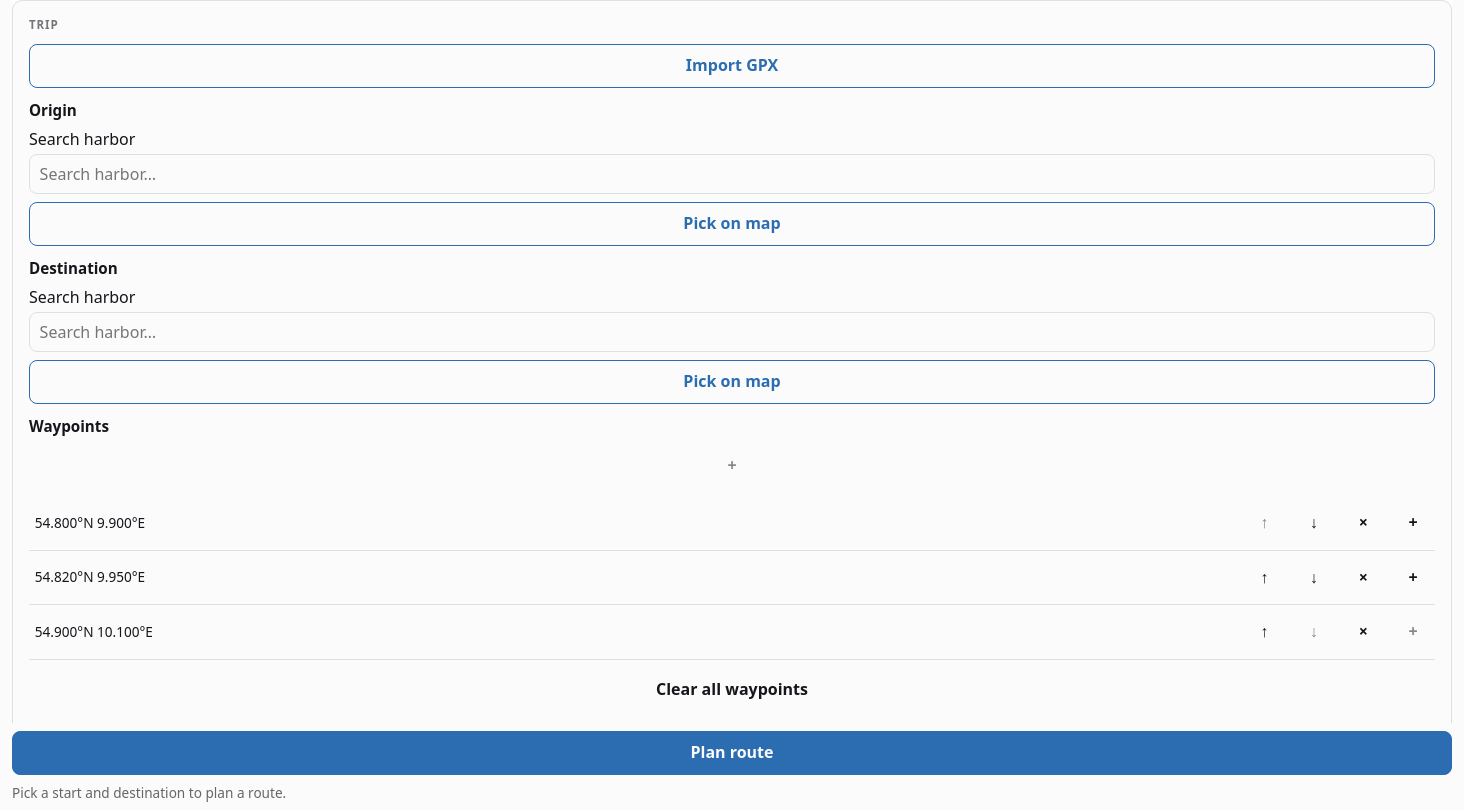
PlannerPanel › via waypoints › #938 clear all › #938 review: removing a via point via its own row button disarms an armed "clear all" confirm
Note: Arm the confirm.
Click the button "Clear all waypoints" at (732, 690), box [29,668,1435,712]
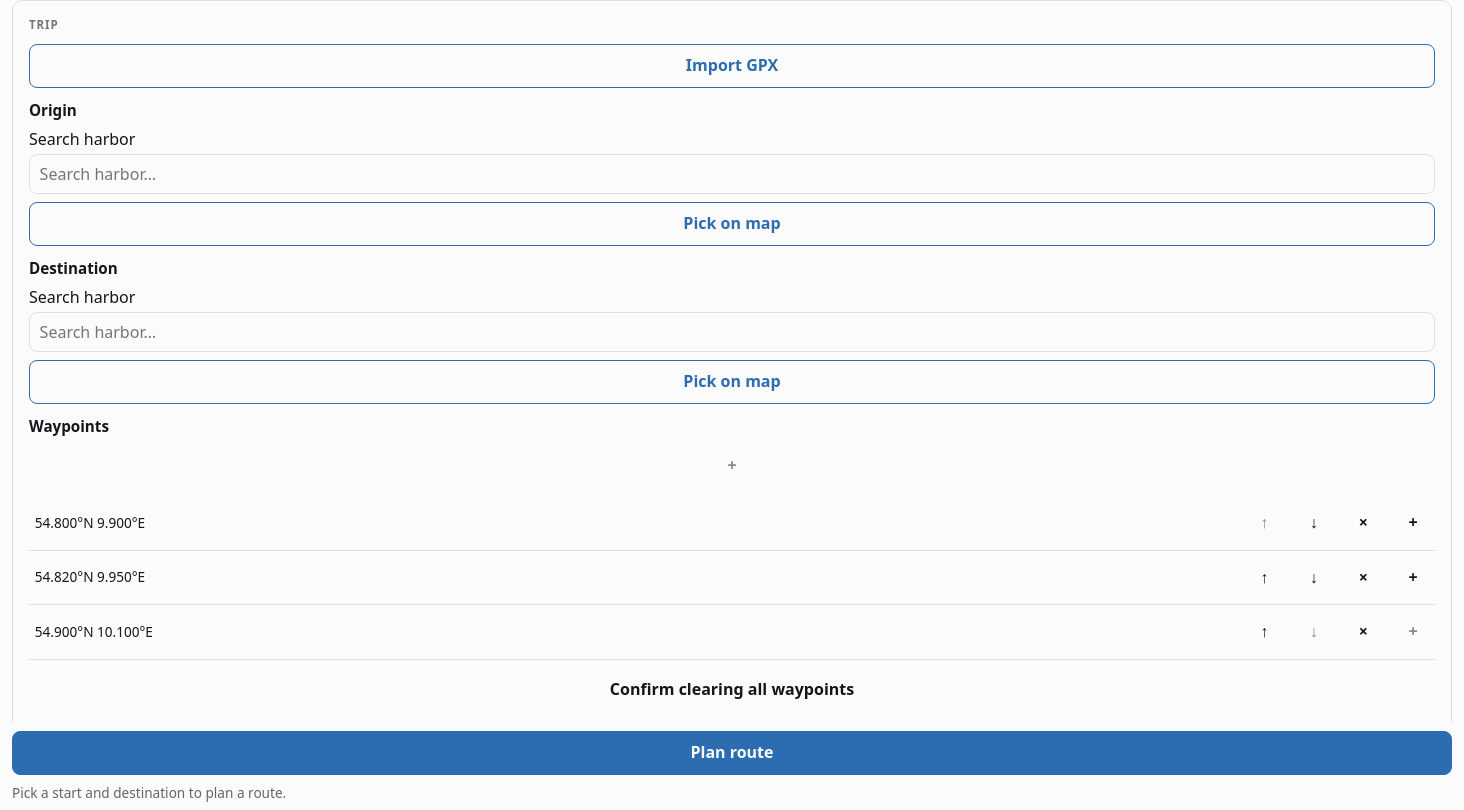
Check: the button "Confirm clearing all waypoints" is shown, box [29,668,1435,712]
Note: Remove ONE point via its OWN row button — unrelated to "clear all".
Click the button named "Remove waypoint 1" at (1363, 523), box [1341,501,1385,545]
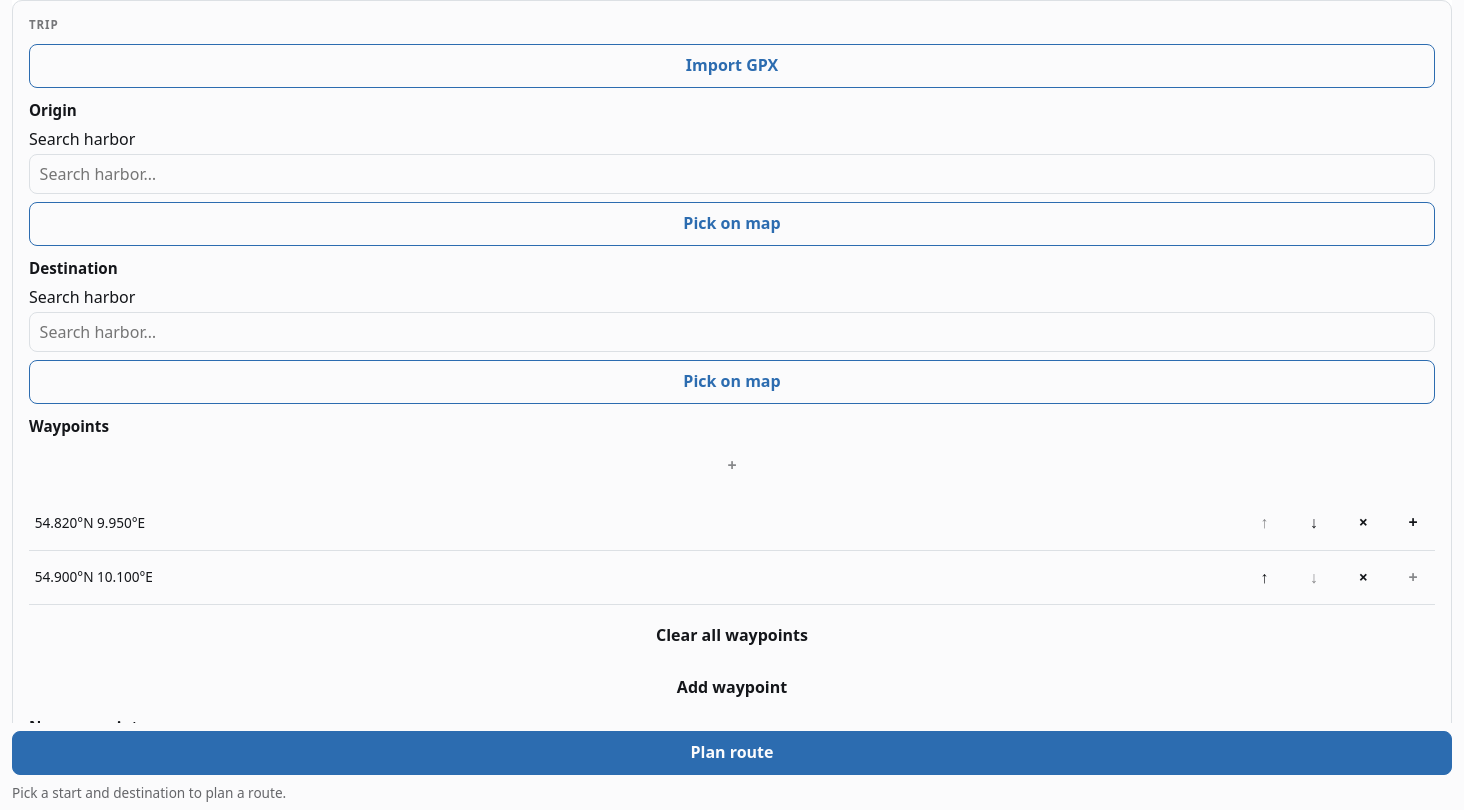
Check: the number of list items is 2, box [29,496,1435,551]; [29,551,1435,605]
Check: the button "Clear all waypoints" is shown
Check: the button "Confirm clearing all waypoints" is gone
Click the button "Clear all waypoints" at (732, 635), box [29,613,1435,657]
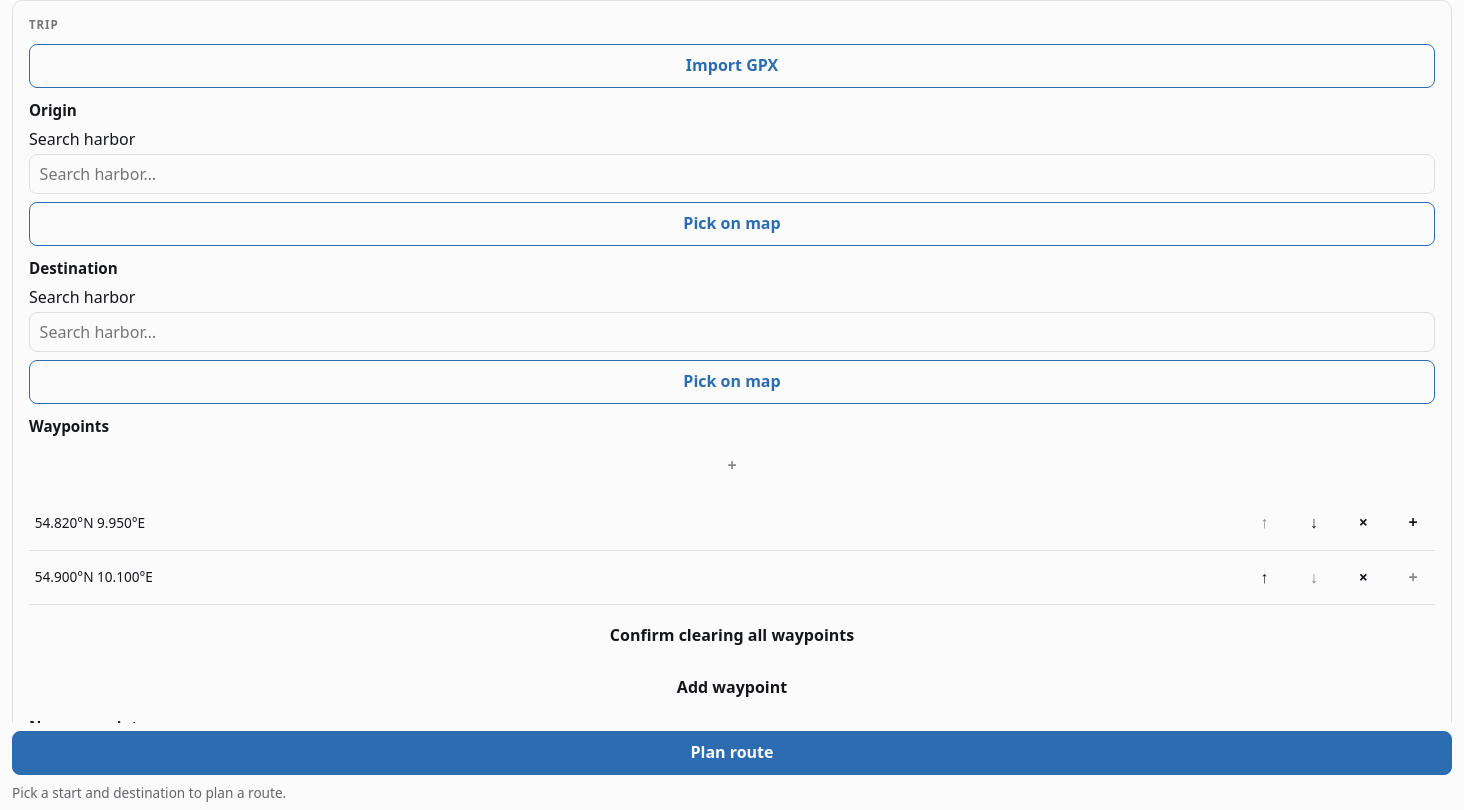
Check: the number of list items is 2, box [29,496,1435,551]; [29,551,1435,605]
Check: the button "Confirm clearing all waypoints" is shown, box [29,613,1435,657]
